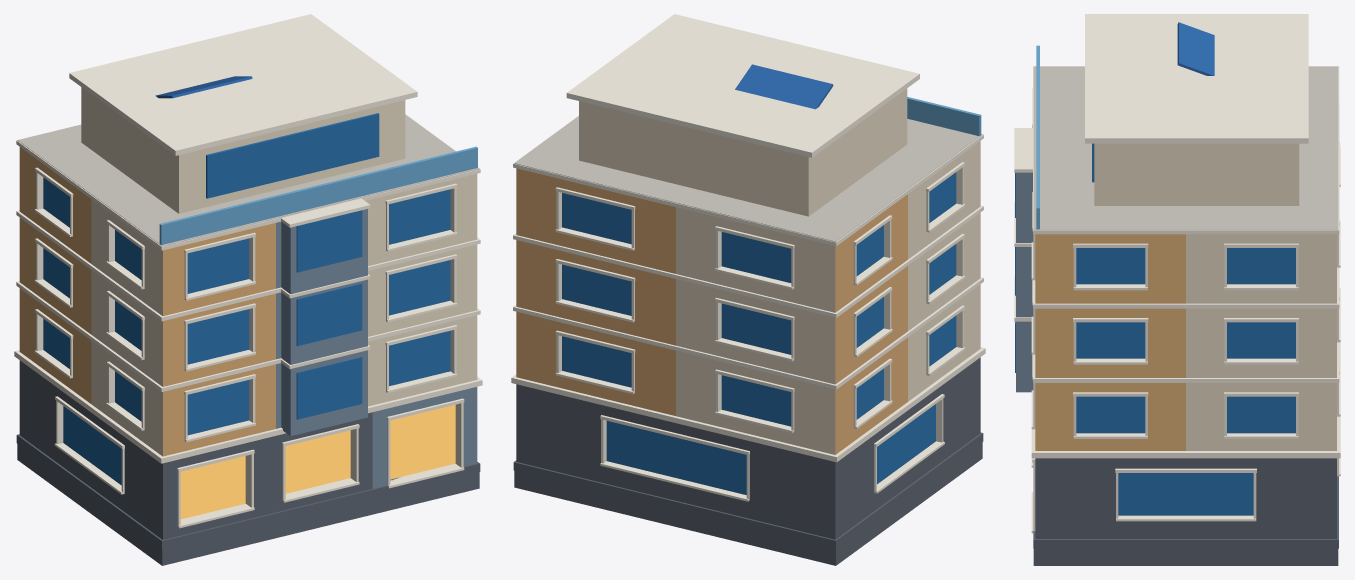
Rendered from 07c_midrise_attic-lod1.glb.
3 views of the same model, side by side, from view 1: azimuth 30°, elevation 25°; view 2: azimuth 150°, elevation 25°; view 3: azimuth 270°, elevation 25° (orthographic). The views are drawn at different scales.
Parts seen in each view (by area): view 1: MidriseAttic_LOD1; view 2: MidriseAttic_LOD1; view 3: MidriseAttic_LOD1.
Part boxes in pixels (x1=…): MidriseAttic_LOD1: x1=14, y1=14, x2=482, y2=565; MidriseAttic_LOD1: x1=511, y1=14, x2=985, y2=565; MidriseAttic_LOD1: x1=1014, y1=14, x2=1340, y2=565.
Bounding box in the file's own units: 14.5 × 17.27 × 12.12.
Materials: 2 (2 with a texture image).
